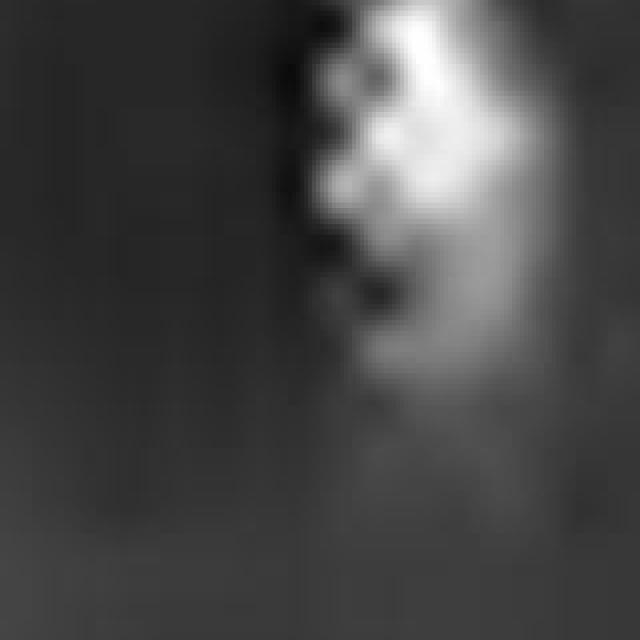person: (305, 1, 569, 433)
